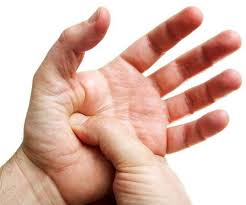palm: (54, 73, 149, 173)
